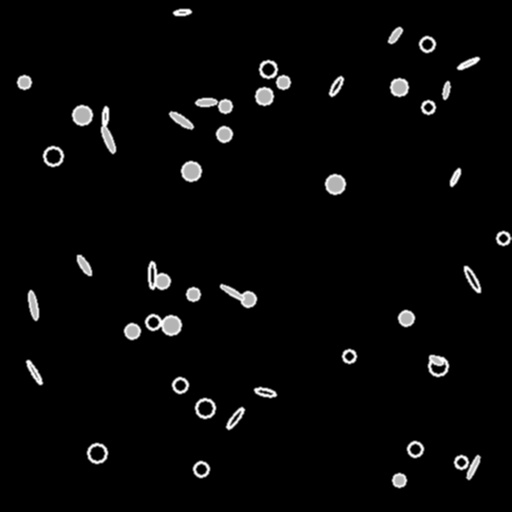pseudomonas: (462, 265, 482, 293), (225, 406, 245, 430), (169, 110, 193, 130), (219, 283, 245, 301), (25, 359, 43, 385), (100, 125, 116, 153), (465, 455, 481, 479), (386, 25, 404, 45), (27, 290, 39, 320), (76, 254, 92, 276), (328, 76, 344, 96), (457, 56, 479, 70), (254, 386, 276, 398), (449, 168, 461, 186), (148, 262, 156, 288), (428, 354, 444, 366), (195, 98, 217, 106), (442, 82, 450, 98), (102, 106, 108, 126), (173, 9, 191, 15)
synechocystis: (44, 147, 62, 165), (196, 399, 214, 417), (73, 106, 91, 124), (182, 162, 200, 180), (429, 357, 447, 375), (162, 316, 180, 334), (88, 444, 106, 462), (326, 175, 344, 193), (391, 79, 407, 95), (260, 61, 276, 77), (256, 88, 272, 104), (194, 462, 208, 476), (217, 127, 231, 141), (125, 324, 139, 338), (241, 292, 255, 306), (155, 274, 169, 288), (146, 315, 160, 329), (399, 311, 413, 325), (420, 37, 434, 51), (173, 378, 187, 392), (408, 442, 422, 456), (277, 76, 289, 88), (393, 474, 405, 486), (497, 232, 509, 244), (422, 101, 434, 113), (219, 100, 231, 112), (343, 350, 355, 362), (187, 288, 199, 300), (455, 456, 467, 468), (18, 76, 30, 88)
